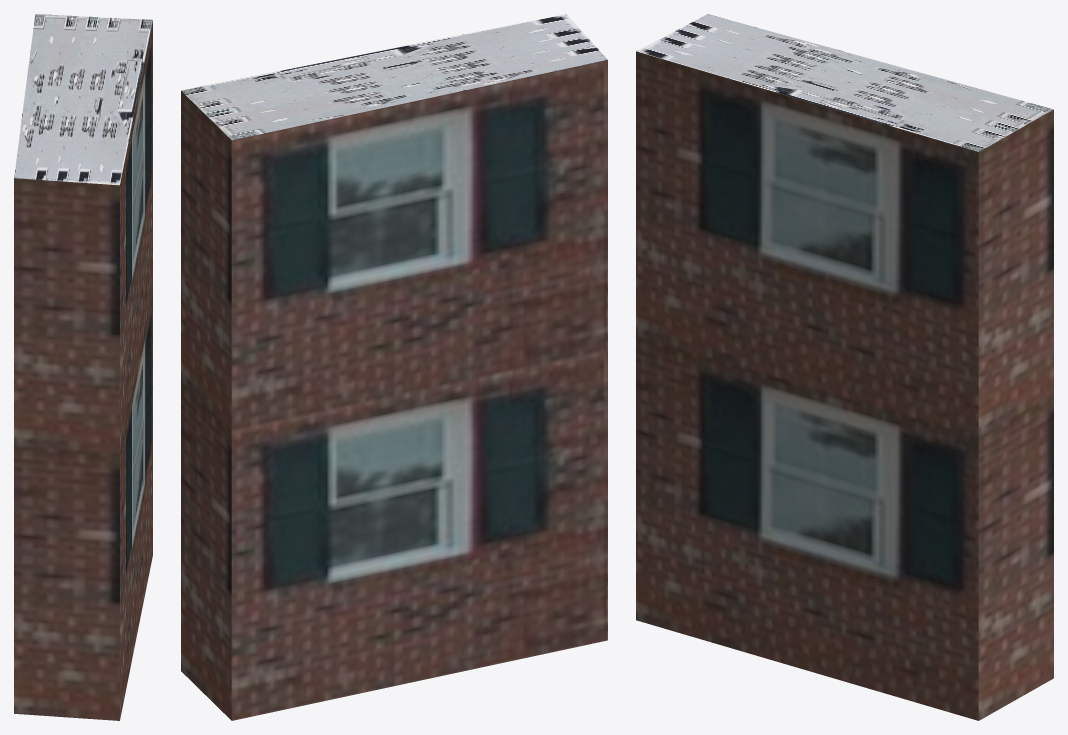
Rendered from ResTex__3391.fbx.
3 renders of one model, left to right at view 1: azimuth 30°, elevation 25°; view 2: azimuth 150°, elevation 25°; view 3: azimuth 270°, elevation 25°, orthographic. The views are drawn at different scales.
Visible parts, largest first — view 1: CityEngineMaterial_14_m, CityEngineMaterial_4_m; view 2: CityEngineMaterial_14_m, CityEngineMaterial_4_m; view 3: CityEngineMaterial_14_m, CityEngineMaterial_4_m.
Part boxes in pixels (x1,y1,x2,y2): CityEngineMaterial_14_m: (14, 20, 152, 720); CityEngineMaterial_4_m: (14, 14, 152, 185); CityEngineMaterial_14_m: (181, 60, 607, 720); CityEngineMaterial_4_m: (181, 14, 607, 140); CityEngineMaterial_14_m: (636, 51, 1053, 720); CityEngineMaterial_4_m: (636, 14, 1053, 151).
Bounding box in the file's own units: 3.12 × 6 × 3.99.
2 materials, 2 textured.
